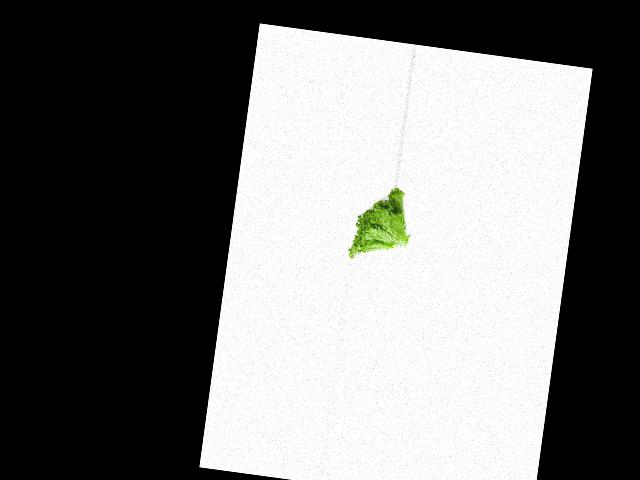lettuce: (345, 181, 415, 266)
